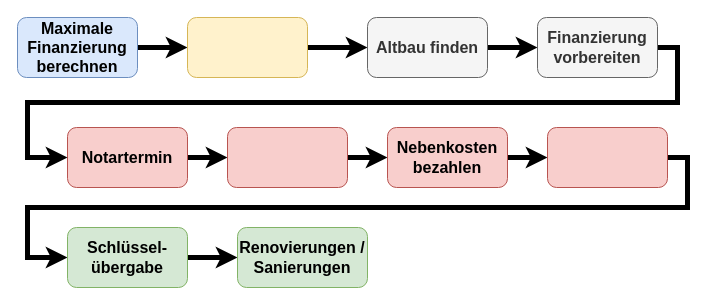
The diagram is 715 pixels wide and 305 high, and some of its shapes have lost their labels. Here are the shapes that lost their labels. From the top down, the centre of each, then its label:
At [247,47]: "Bedarf Berechnen".
At [287,157]: "Finanzierung unterschreiben".
At [607,157]: "Eigenanteil bezahlen".
